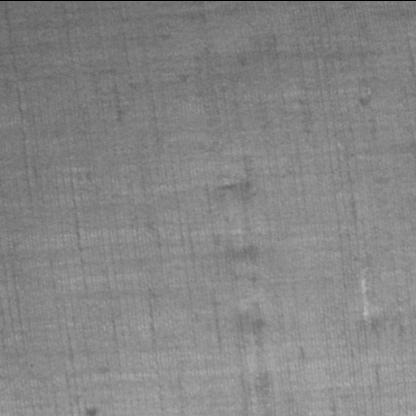thread error: (203, 171, 282, 415), (355, 266, 375, 334)
